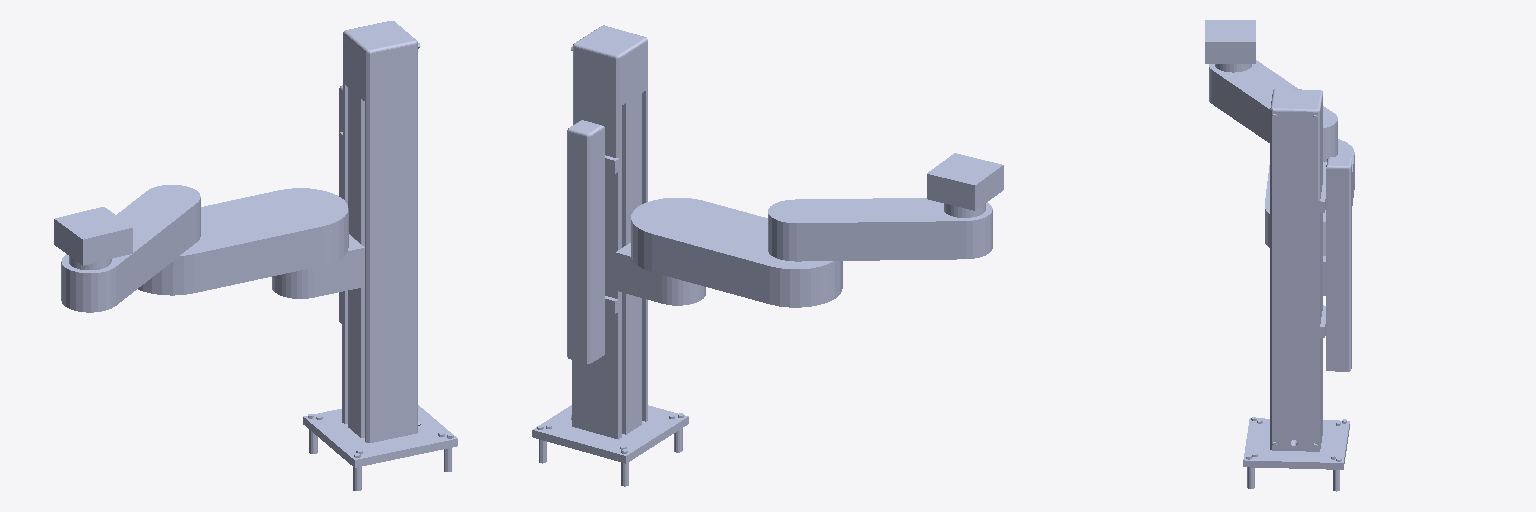
robot.urdf — arm_cachua:
<?xml version="1.0" encoding="utf-8"?>
<!-- This URDF was automatically created by SolidWorks to URDF Exporter! Originally created by [author] ([email redacted]) 
     Commit Version: 1.6.0-1-g15f4949  Build Version: 1.6.7594.29634
     For more information, please see http://wiki.ros.org/sw_urdf_exporter -->
<robot
  name="arm_cachua">
  <link
    name="base_link">
    <inertial>
      <origin
        xyz="1.0927323858247 -0.686700374911266 0.878210293558317"
        rpy="0 0 0" />
      <mass
        value="49.4805903270839" />
      <inertia
        ixx="11.5209337707897"
        ixy="0.00410789115198139"
        ixz="0.0178710713508414"
        iyy="11.328909472299"
        iyz="-0.0818380164177233"
        izz="0.667865148013673" />
    </inertial>
    <visual>
      <origin
        xyz="0 0 0"
        rpy="0 0 0" />
      <geometry>
        <mesh
          filename="package://arm_cachua/meshes/base_link.STL" />
      </geometry>
      <material
        name="">
        <color
          rgba="0.792156862745098 0.819607843137255 0.933333333333333 1" />
      </material>
    </visual>
    <collision>
      <origin
        xyz="0 0 0"
        rpy="0 0 0" />
      <geometry>
        <mesh
          filename="package://arm_cachua/meshes/base_link.STL" />
      </geometry>
    </collision>
  </link>
  <link
    name="link1">
    <inertial>
      <origin
        xyz="0.607427868764121 0.572194737882173 -0.0293617820424991"
        rpy="0 0 0" />
      <mass
        value="9.14159265358979" />
      <inertia
        ixx="0.0540508039409069"
        ixy="0.00535901115247588"
        ixz="-0.00205278300100913"
        iyy="0.0854151878954083"
        iyz="0.000338250493949397"
        izz="0.0864441362382773" />
    </inertial>
    <visual>
      <origin
        xyz="0 0 0"
        rpy="0 0 0" />
      <geometry>
        <mesh
          filename="package://arm_cachua/meshes/link1.STL" />
      </geometry>
      <material
        name="">
        <color
          rgba="0.792156862745098 0.819607843137255 0.933333333333333 1" />
      </material>
    </visual>
    <collision>
      <origin
        xyz="0 0 0"
        rpy="0 0 0" />
      <geometry>
        <mesh
          filename="package://arm_cachua/meshes/link1.STL" />
      </geometry>
    </collision>
  </link>
  <joint
    name="joint1"
    type="prismatic">
    <origin
      xyz="0.23491 -0.71189 0.25792"
      rpy="1.5708 0 0" />
    <parent
      link="base_link" />
    <child
      link="link1" />
    <axis
      xyz="0 1 0" />
    <limit
      lower="-0.59204"
      upper="0.55796"
      effort="0"
      velocity="0" />
  </joint>
  <link
    name="link2">
    <inertial>
      <origin
        xyz="0.293377286672291 0.564548320108907 -0.0430513968148868"
        rpy="0 0 0" />
      <mass
        value="38.0899693899575" />
      <inertia
        ixx="0.411420186478618"
        ixy="0.0183838657000088"
        ixz="-0.0983590256115223"
        iyy="2.21115735519494"
        iyz="0.00115897484317975"
        izz="1.96540774365376" />
    </inertial>
    <visual>
      <origin
        xyz="0 0 0"
        rpy="0 0 0" />
      <geometry>
        <mesh
          filename="package://arm_cachua/meshes/link2.STL" />
      </geometry>
      <material
        name="">
        <color
          rgba="0.792156862745098 0.819607843137255 0.933333333333333 1" />
      </material>
    </visual>
    <collision>
      <origin
        xyz="0 0 0"
        rpy="0 0 0" />
      <geometry>
        <mesh
          filename="package://arm_cachua/meshes/link2.STL" />
      </geometry>
    </collision>
  </link>
  <joint
    name="joint2"
    type="continuous">
    <origin
      xyz="0 0.15 0"
      rpy="0 0.011092 0" />
    <parent
      link="link1" />
    <child
      link="link2" />
    <axis
      xyz="0 1 0" />
  </joint>
  <link
    name="link3">
    <inertial>
      <origin
        xyz="0.286025454452601 0.564094530475619 0.0986213829126957"
        rpy="0 0 0" />
      <mass
        value="22.319689898686" />
      <inertia
        ixx="0.39899835408147"
        ixy="0.00418628569135769"
        ixz="0.444749791683163"
        iyy="1.1262466603104"
        iyz="-0.00265596647432194"
        izz="0.817835709756749" />
    </inertial>
    <visual>
      <origin
        xyz="0 0 0"
        rpy="0 0 0" />
      <geometry>
        <mesh
          filename="package://arm_cachua/meshes/link3.STL" />
      </geometry>
      <material
        name="">
        <color
          rgba="0.792156862745098 0.819607843137255 0.933333333333333 1" />
      </material>
    </visual>
    <collision>
      <origin
        xyz="0 0 0"
        rpy="0 0 0" />
      <geometry>
        <mesh
          filename="package://arm_cachua/meshes/link3.STL" />
      </geometry>
    </collision>
  </link>
  <joint
    name="joint3"
    type="continuous">
    <origin
      xyz="-0.5 0.15 0"
      rpy="0 -0.022487 0" />
    <parent
      link="link2" />
    <child
      link="link3" />
    <axis
      xyz="0 1 0" />
  </joint>
  <link
    name="link_gripper">
    <inertial>
      <origin
        xyz="0.648588925771887 0.578257530686136 0.269581239375089"
        rpy="0 0 0" />
      <mass
        value="4.49087385212341" />
      <inertia
        ixx="0.0202967545713155"
        ixy="-0.000199226938271995"
        ixz="-3.39406175284582E-05"
        iyy="0.0287483587037319"
        iyz="-0.00041897994929202"
        izz="0.0202415154053278" />
    </inertial>
    <visual>
      <origin
        xyz="0 0 0"
        rpy="0 0 0" />
      <geometry>
        <mesh
          filename="package://arm_cachua/meshes/link_gripper.STL" />
      </geometry>
      <material
        name="">
        <color
          rgba="0.792156862745098 0.819607843137255 0.933333333333333 1" />
      </material>
    </visual>
    <collision>
      <origin
        xyz="0 0 0"
        rpy="0 0 0" />
      <geometry>
        <mesh
          filename="package://arm_cachua/meshes/link_gripper.STL" />
      </geometry>
    </collision>
  </link>
  <joint
    name="joint_gripper"
    type="continuous">
    <origin
      xyz="-0.6 0.15 0"
      rpy="0 0.011395 0" />
    <parent
      link="link3" />
    <child
      link="link_gripper" />
    <axis
      xyz="0 1 0" />
  </joint>
</robot>

--- What the picture shows (computed from the rendered views, not written in the file) ---
Views: 3 orthographic renders of the robot side by side, from view 1: azimuth 30°, elevation 25°; view 2: azimuth 150°, elevation 25°; view 3: azimuth 270°, elevation 25°.
Model arm_cachua with 5 links and 4 joints (3 continuous, 1 prismatic), rooted at base_link, posed all joints at 0.
Links seen in each view (by area): view 1: base_link, link2, link3, link_gripper, link1; view 2: base_link, link2, link3, link_gripper, link1; view 3: base_link, link3, link_gripper, link2.
Boxes of the visible links, x1,y1,x2,y2 form: base_link: (303, 21, 457, 490); link2: (138, 188, 348, 295); link3: (61, 185, 200, 312); link_gripper: (54, 207, 132, 269); link1: (272, 234, 364, 298); base_link: (532, 25, 688, 486); link2: (631, 198, 842, 307); link3: (768, 198, 992, 261); link_gripper: (927, 153, 1003, 217); link1: (615, 243, 705, 305); base_link: (1243, 89, 1351, 491); link3: (1209, 60, 1337, 161); link_gripper: (1205, 20, 1255, 72); link2: (1265, 139, 1354, 255).
Size in the robot's own frame: 1.62 by 0.5949 by 1.63 metres.
5 mesh visuals loaded from 5 distinct referenced files (5 binary STL).